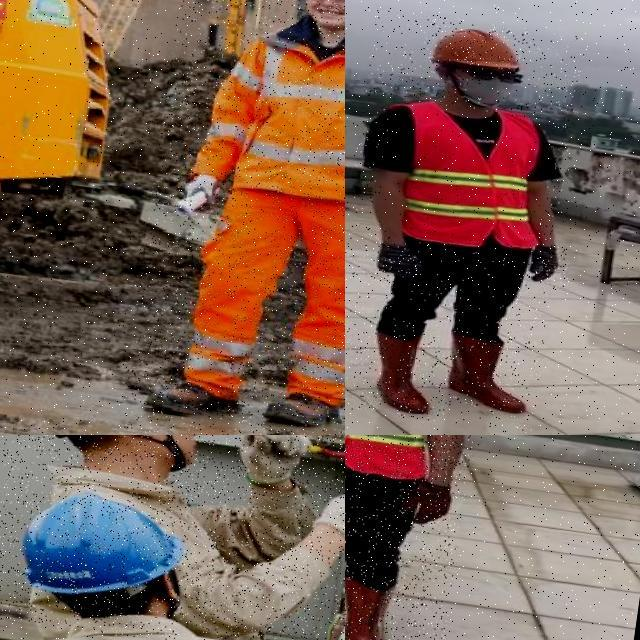boots: (352, 325, 442, 419), (450, 330, 534, 414), (144, 376, 242, 426), (259, 386, 344, 435), (345, 574, 406, 640)
helmet: (7, 478, 202, 618), (425, 19, 528, 76)
vest: (189, 0, 345, 220), (376, 98, 554, 255)
